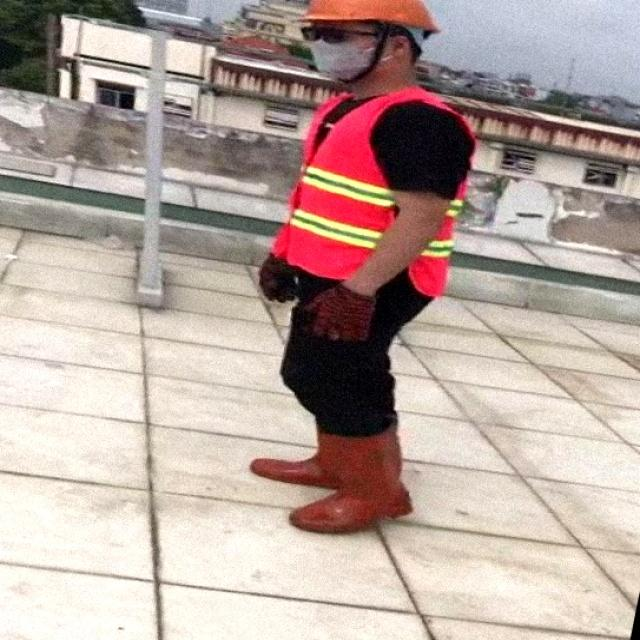helmet: (282, 0, 462, 61)
safety_vest: (258, 91, 508, 319)
